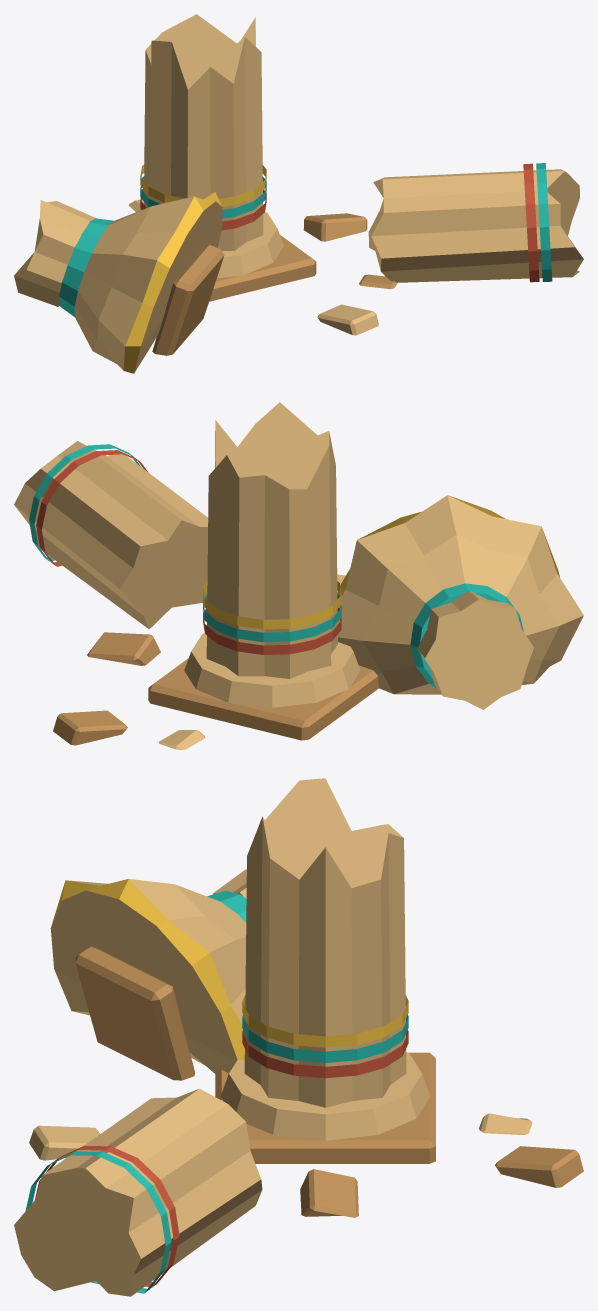
File: broken_column.glb
The picture shows the model from 3 angles, top to bottom: view 1: azimuth 30°, elevation 25°; view 2: azimuth 150°, elevation 25°; view 3: azimuth 270°, elevation 25°; orthographic projection. The views are drawn at different scales.
Parts seen in each view (by area): view 1: broken_column; view 2: broken_column; view 3: broken_column.
Boxes of the visible parts, <box> form: broken_column: <box>14,14,583,373</box>; broken_column: <box>14,402,583,749</box>; broken_column: <box>14,778,583,1296</box>.
Bounding box in the file's own units: 3.71 × 1.64 × 2.71.
